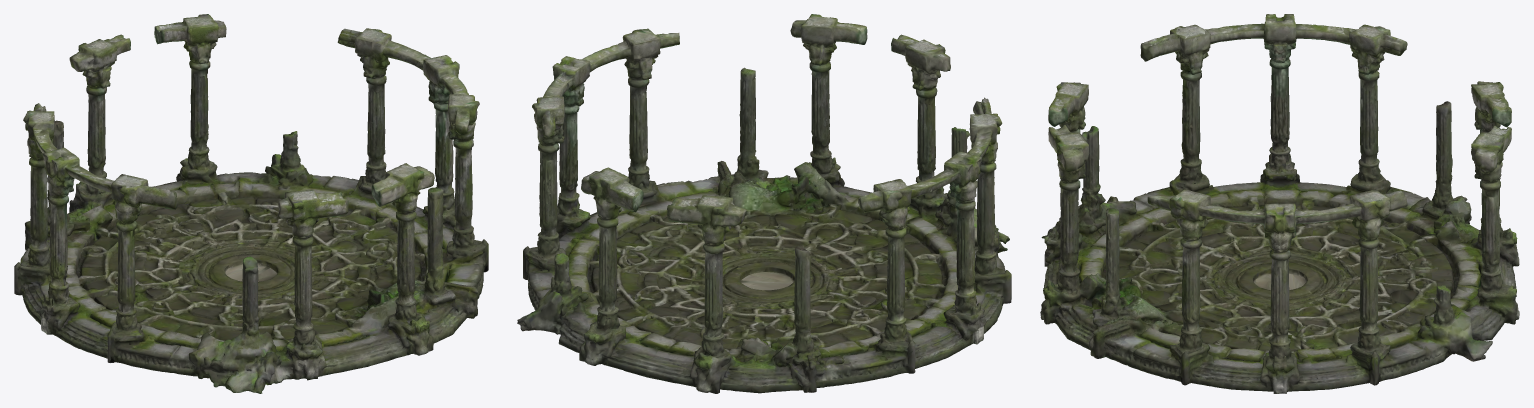
Rendered from Ancient_Stone_Circle.glb.
3 views of the same model, side by side, from view 1: azimuth 30°, elevation 25°; view 2: azimuth 150°, elevation 25°; view 3: azimuth 270°, elevation 25° (orthographic). The views are drawn at different scales.
Parts seen in each view (by area): view 1: Ancient_Stone_Circle; view 2: Ancient_Stone_Circle; view 3: Ancient_Stone_Circle.
Part boxes in pixels (x1=…): Ancient_Stone_Circle: x1=14, y1=14, x2=488, y2=393; Ancient_Stone_Circle: x1=517, y1=14, x2=1011, y2=393; Ancient_Stone_Circle: x1=1040, y1=14, x2=1519, y2=393.
Size of the model in its own units: 1.9 by 0.7685 by 1.87.
1 material, 1 textured.
